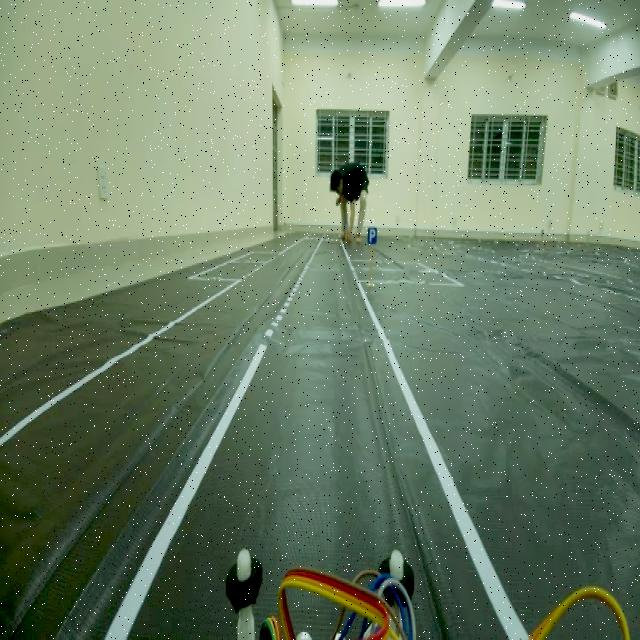parking: (364, 220, 378, 246)
